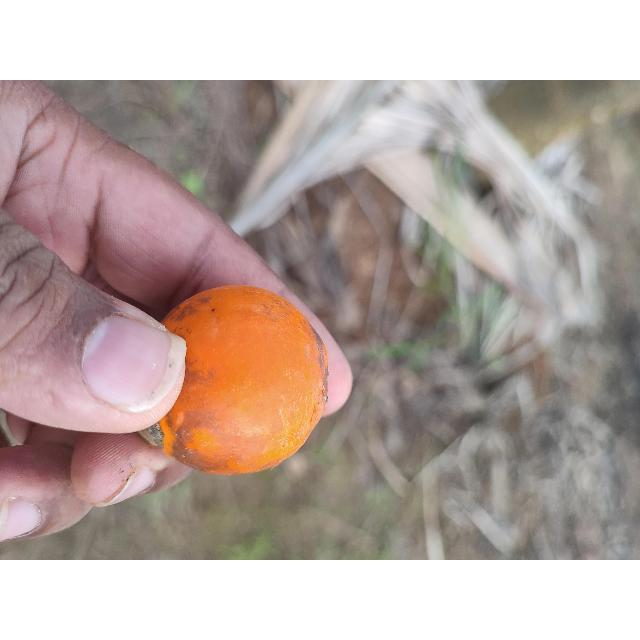good: (140, 285, 352, 477)
